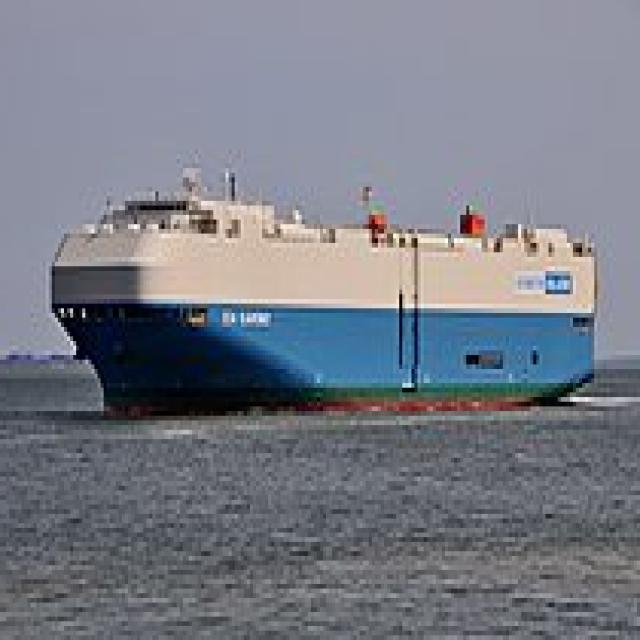Carrier: (49, 159, 603, 416)
